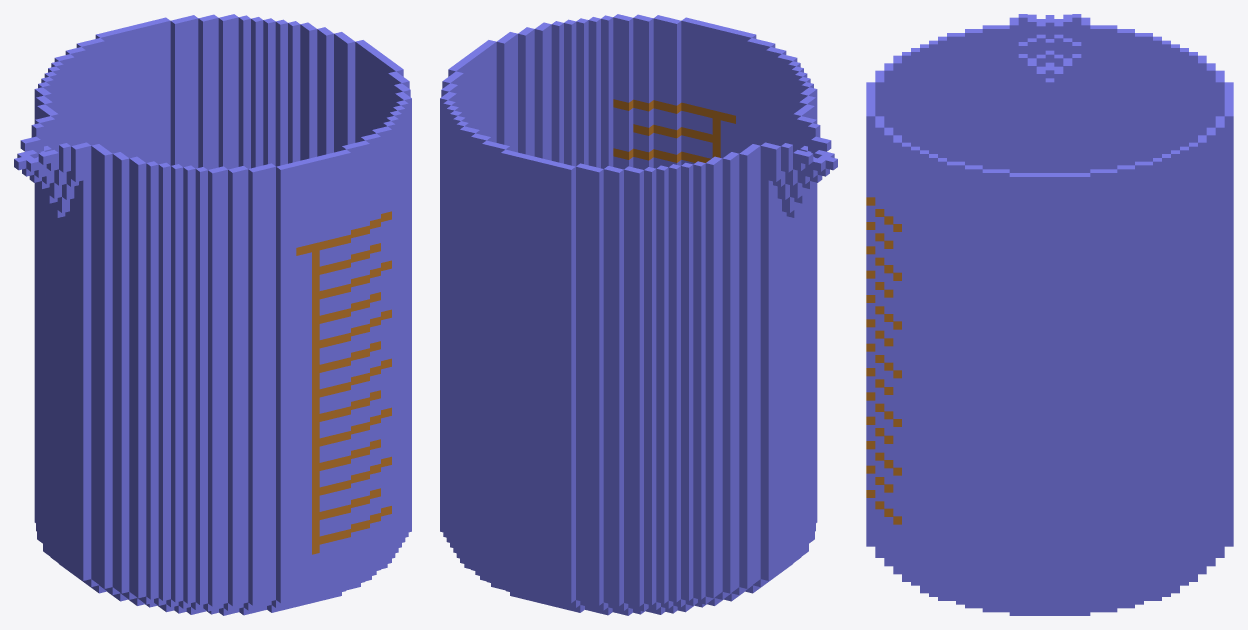
File: Beaker2-2-1.fbx
3 views of the same model, side by side, from view 1: azimuth 30°, elevation 25°; view 2: azimuth 150°, elevation 25°; view 3: azimuth 270°, elevation 25° (orthographic).
Visible parts, largest first — view 1: Beaker2-2-1.001, Beaker2-2-1; view 2: Beaker2-2-1.001, Beaker2-2-1; view 3: Beaker2-2-1.001, Beaker2-2-1.
Part boxes in pixels (bbox=[...]): Beaker2-2-1.001: bbox=[14, 14, 411, 615]; Beaker2-2-1: bbox=[296, 211, 391, 554]; Beaker2-2-1.001: bbox=[440, 14, 837, 615]; Beaker2-2-1: bbox=[613, 99, 735, 162]; Beaker2-2-1.001: bbox=[866, 14, 1233, 615]; Beaker2-2-1: bbox=[866, 197, 901, 524].
Size of the model in its own units: 4.7 by 5.5 by 4.1.
